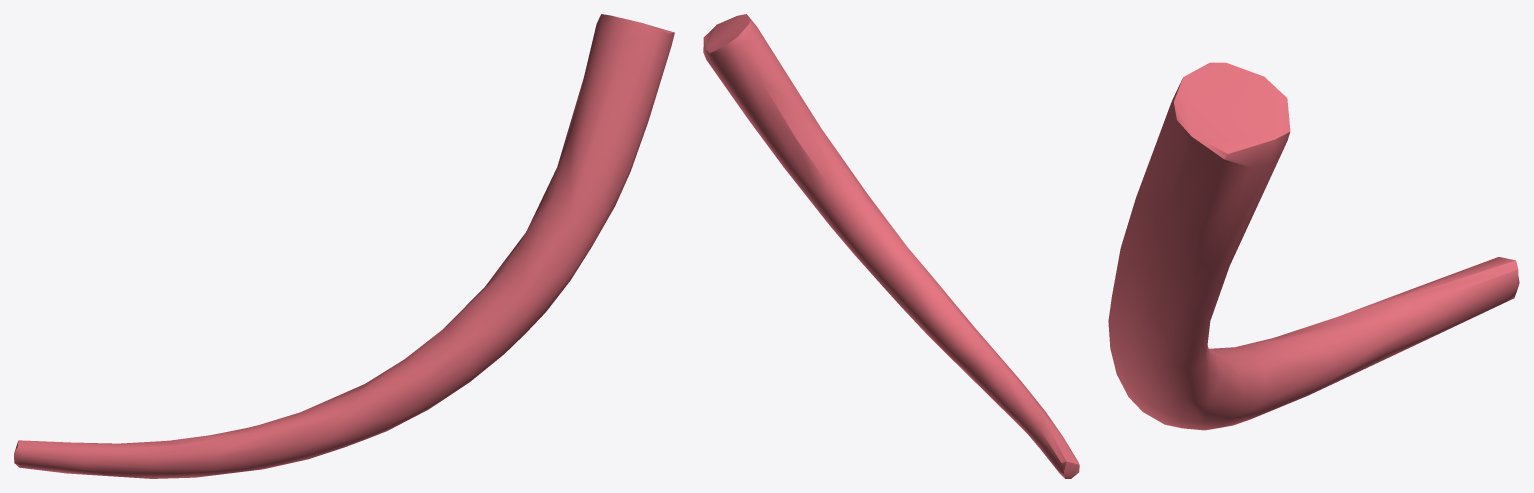
File: fma68725_fj3001.glb
The picture shows the model from 3 angles, left to right: view 1: azimuth 30°, elevation 25°; view 2: azimuth 150°, elevation 25°; view 3: azimuth 270°, elevation 25°; orthographic projection. The views are drawn at different scales.
Parts seen in each view (by area): view 1: FMA68725_FJ3001; view 2: FMA68725_FJ3001; view 3: FMA68725_FJ3001.
Boxes of the visible parts, x1,y1,x2,y2 form: FMA68725_FJ3001: (14, 14, 674, 478); FMA68725_FJ3001: (703, 14, 1079, 478); FMA68725_FJ3001: (1108, 62, 1519, 430).
Bounding box in the file's own units: 0.0577 × 0.0384 × 0.0232.
